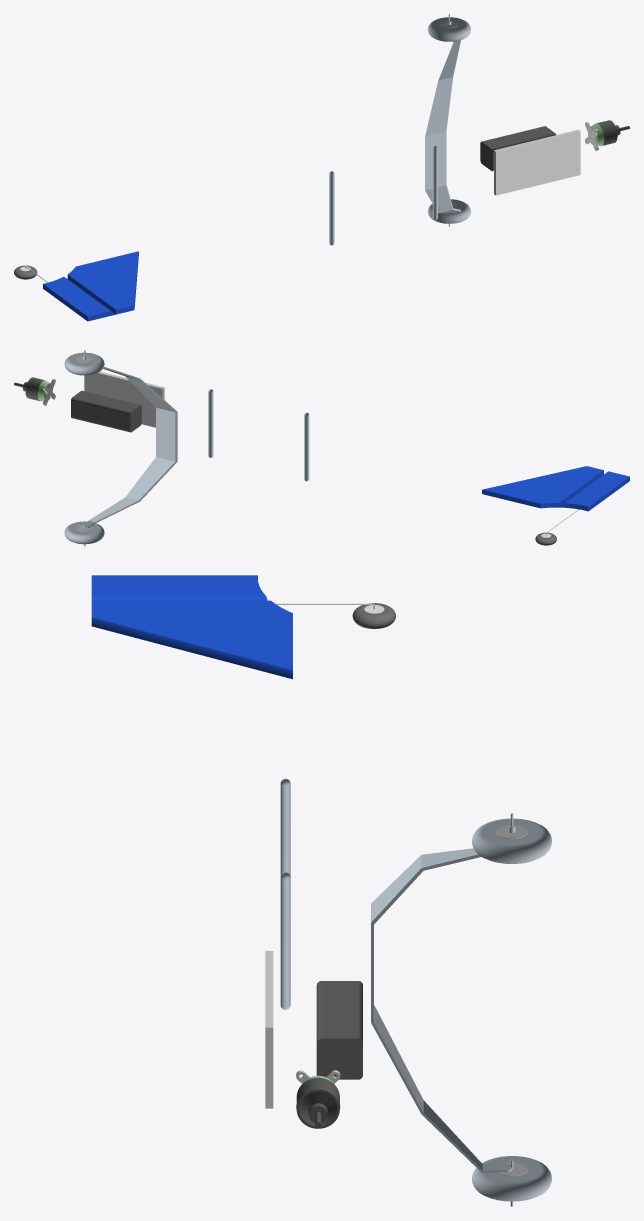
The model's file is icarus_taildragger.glb.
The picture shows the model from 3 angles, top to bottom: view 1: azimuth 30°, elevation 25°; view 2: azimuth 150°, elevation 25°; view 3: azimuth 270°, elevation 25°; orthographic projection. The views are drawn at different scales.
Parts seen in each view (by area): view 1: Estabilizador Vertical v6 (×2), MainLandingGear v1, object 1, Batery 4s 6000mAh v2, Palos de madera v1 (×2); view 2: MainLandingGear v1, Estabilizador Vertical v6 (×2), Batery 4s 6000mAh v2, object 1, Palos de madera v1 (×2), Cobra C-3520 18 v5; view 3: Estabilizador Vertical v6 (×2), MainLandingGear v1, Batery 4s 6000mAh v2, Palos de madera v1 (×2), Cobra C-3520 18 v5, object 1.
Boxes of the visible parts, bbox=[...] form: Estabilizador Vertical v6 (×2): bbox=[43, 251, 138, 321]; MainLandingGear v1: bbox=[425, 14, 470, 226]; object 1: bbox=[494, 129, 580, 195]; Batery 4s 6000mAh v2: bbox=[480, 126, 556, 171]; Palos de madera v1 (×2): bbox=[329, 146, 437, 245]; MainLandingGear v1: bbox=[64, 350, 177, 546]; Estabilizador Vertical v6 (×2): bbox=[482, 466, 629, 511]; Batery 4s 6000mAh v2: bbox=[71, 390, 141, 432]; object 1: bbox=[84, 371, 164, 427]; Palos de madera v1 (×2): bbox=[208, 389, 309, 481]; Cobra C-3520 18 v5: bbox=[14, 377, 44, 400]; Estabilizador Vertical v6 (×2): bbox=[91, 575, 292, 679]; MainLandingGear v1: bbox=[371, 813, 551, 1206]; Batery 4s 6000mAh v2: bbox=[316, 981, 362, 1079]; Palos de madera v1 (×2): bbox=[280, 778, 290, 1009]; Cobra C-3520 18 v5: bbox=[296, 1077, 339, 1128]; object 1: bbox=[265, 951, 273, 1108].
Size of what is drawn, in the model's own units: 128 by 43 by 45.74.
